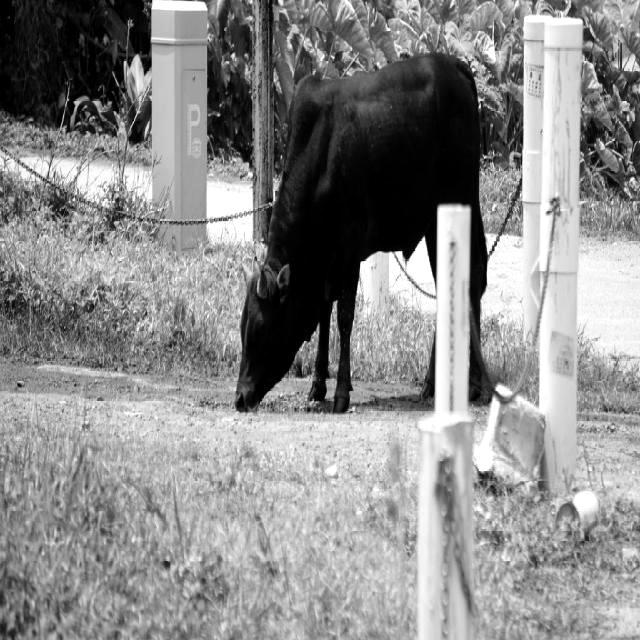COW: (235, 55, 488, 412)
